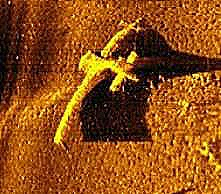aircraft: (51, 14, 146, 144)
